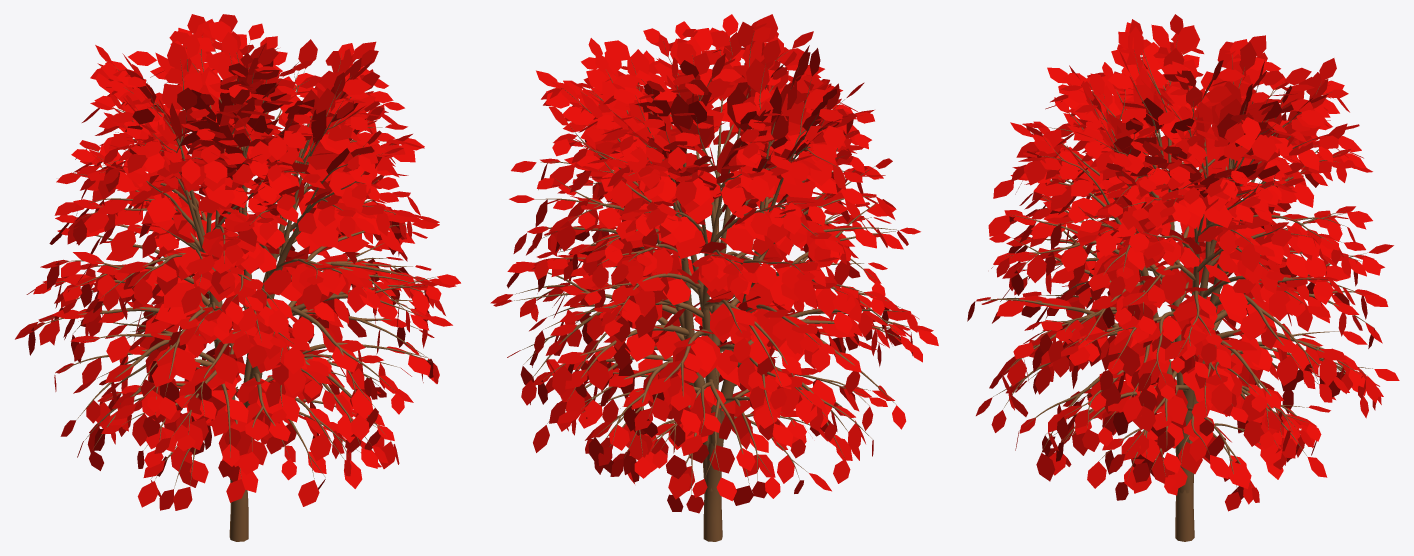
The model's file is Maple_2.glb.
3 views of the same model, side by side, from view 1: azimuth 30°, elevation 25°; view 2: azimuth 150°, elevation 25°; view 3: azimuth 270°, elevation 25° (orthographic).
Visible parts, largest first — view 1: leaves, tree; view 2: leaves, tree; view 3: leaves, tree.
Part boxes in pixels (<box>): leaves: <box>15,14,460,510</box>; tree: <box>35,36,434,541</box>; leaves: <box>490,14,938,513</box>; tree: <box>514,31,917,541</box>; leaves: <box>967,14,1399,511</box>; tree: <box>978,35,1373,541</box>.
Bounding box in the file's own units: 10.51 × 13.07 × 10.62.
